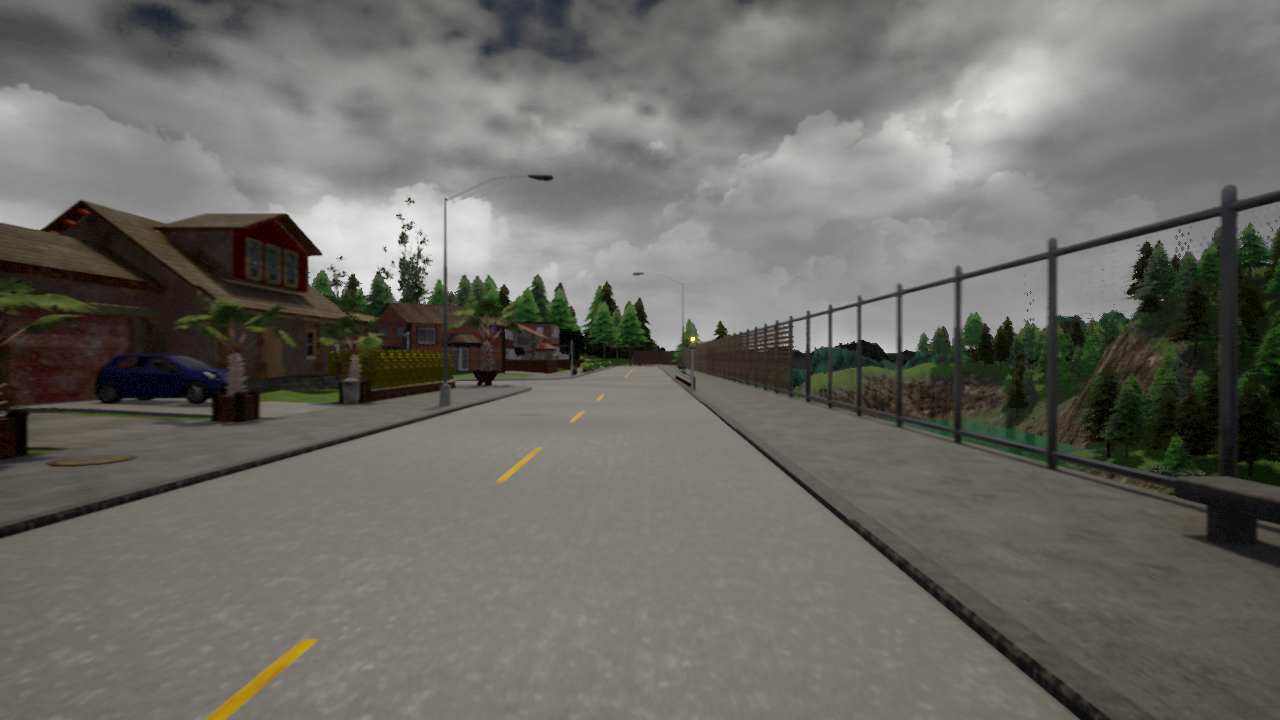yellow: (686, 328, 696, 349)
